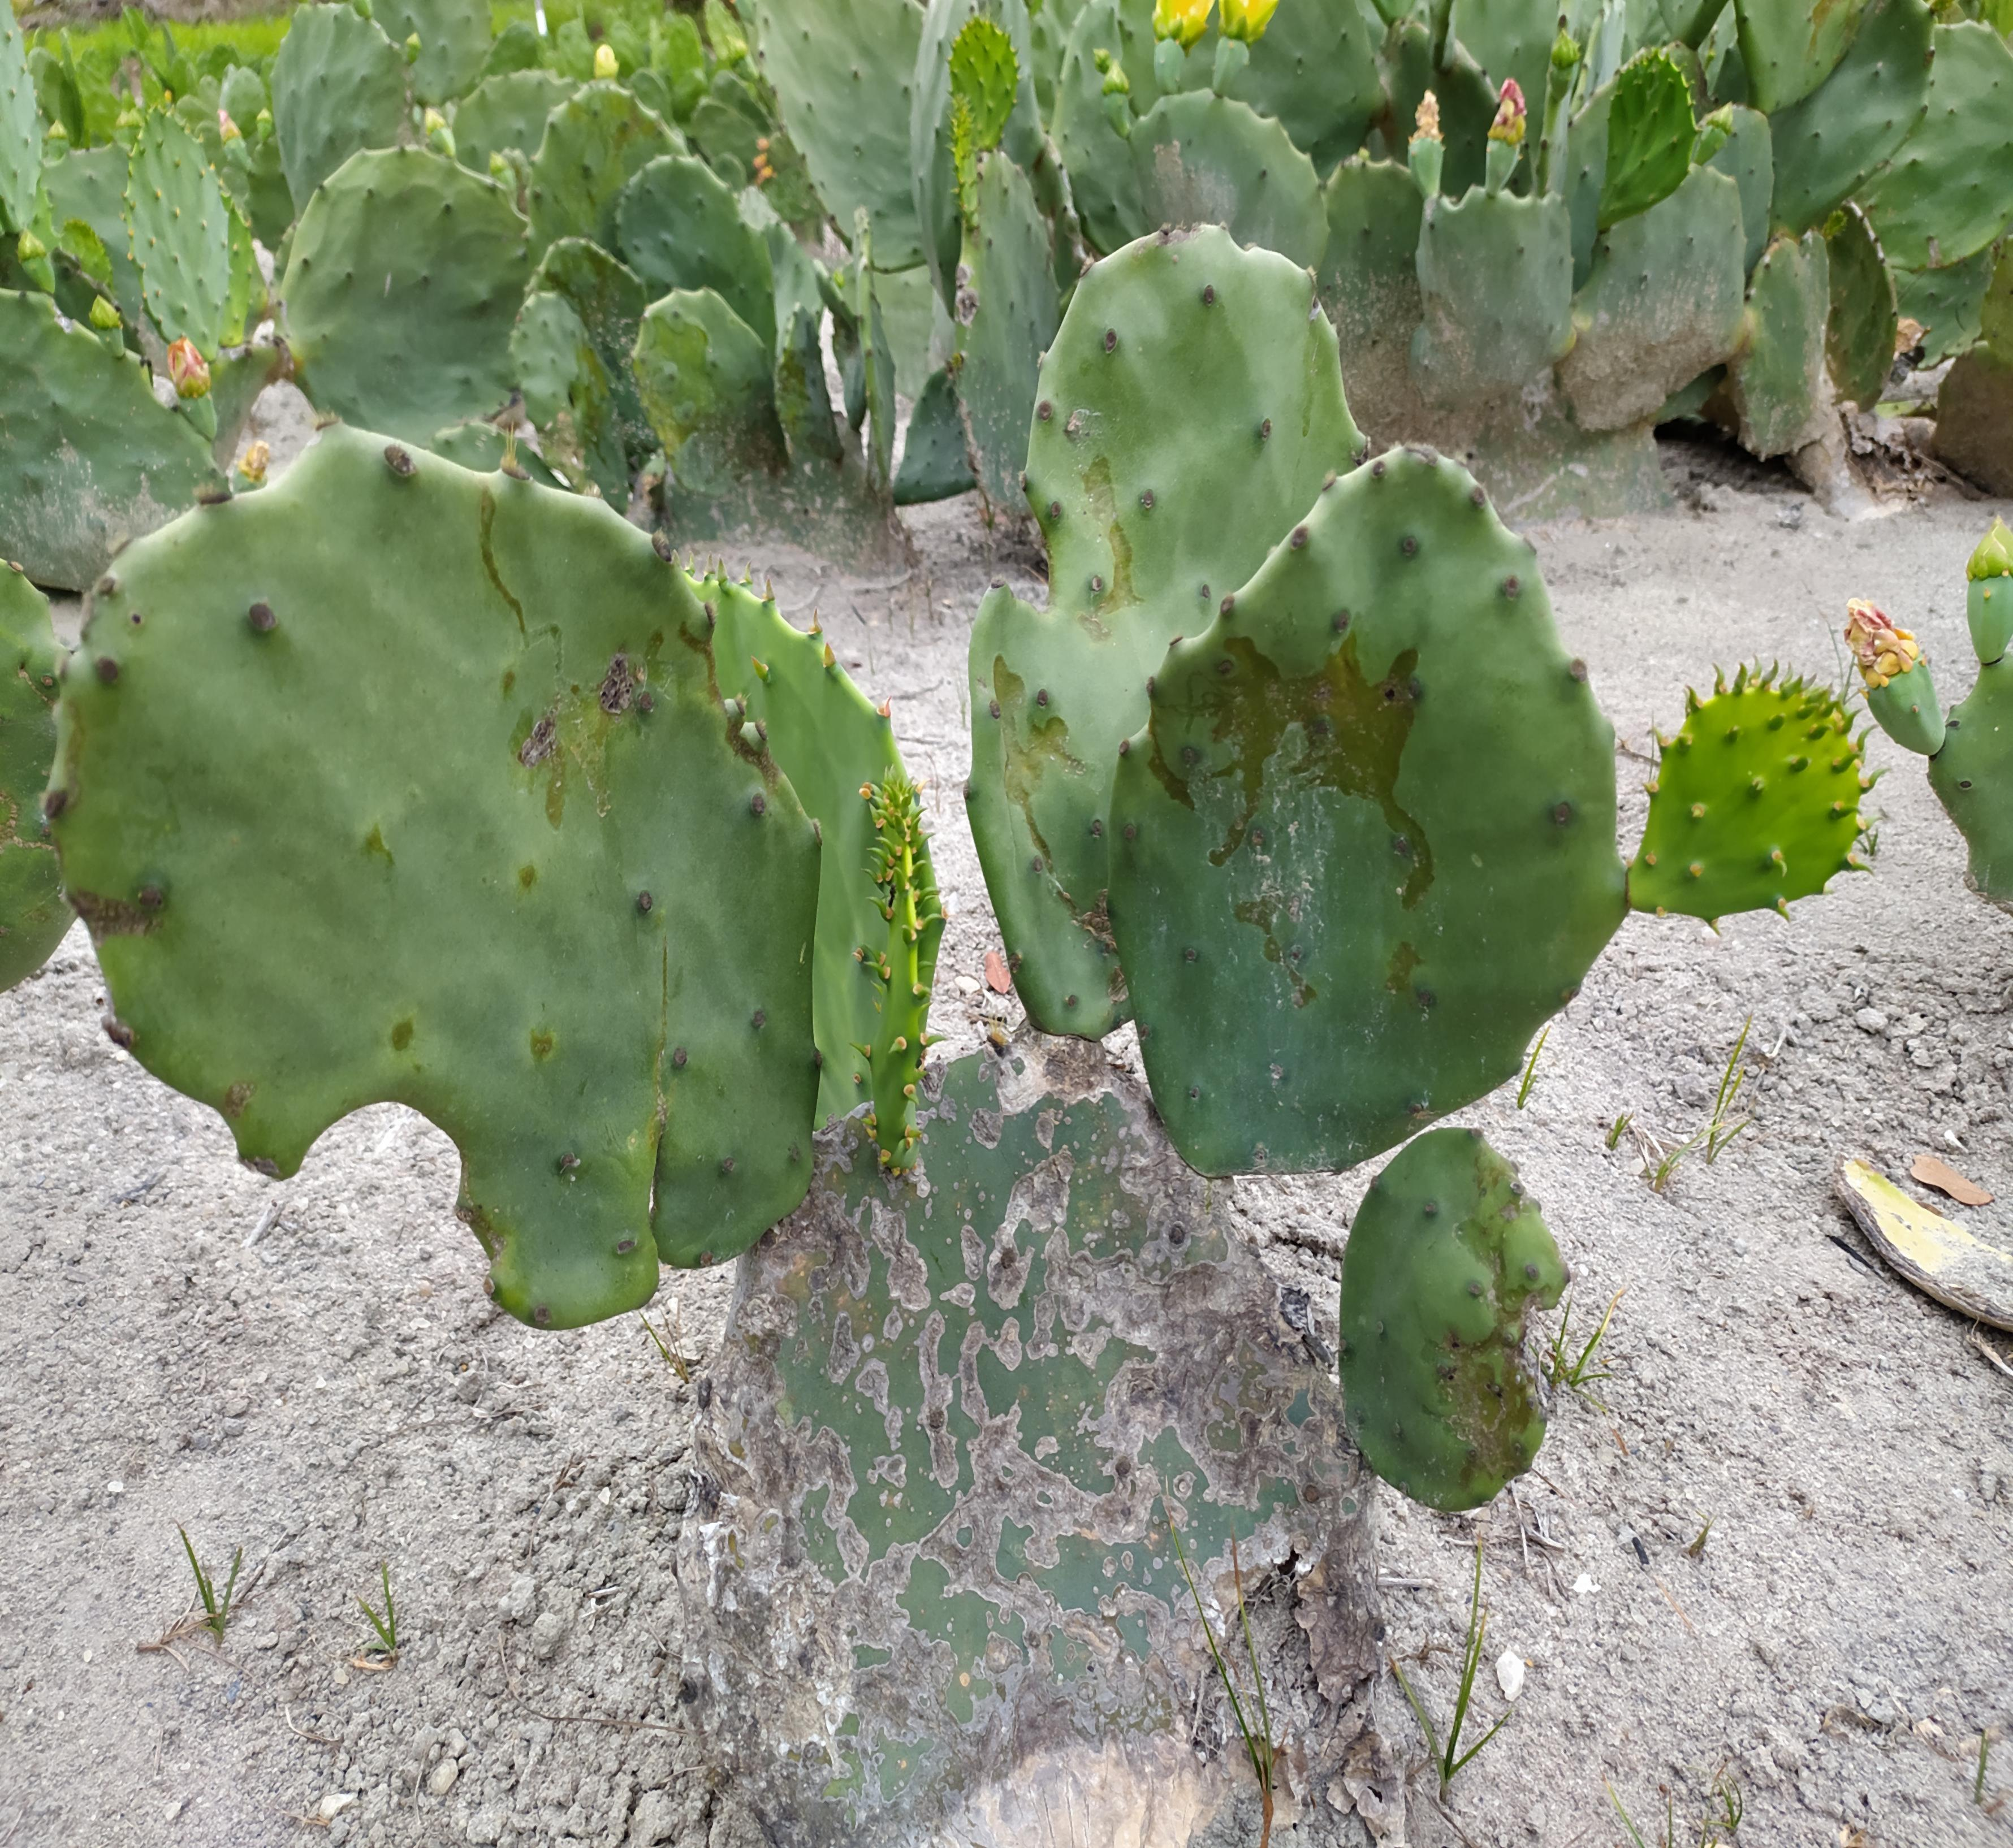impropria: (593, 1035, 1405, 1846), (1005, 449, 1754, 1198), (1289, 1134, 1657, 1501), (90, 115, 296, 321), (1705, 259, 1895, 449), (614, 149, 771, 306)
propria: (74, 453, 936, 1315), (262, 139, 530, 407), (1, 278, 268, 547), (1619, 669, 1877, 928), (1538, 165, 1785, 411), (1391, 179, 1593, 380)
